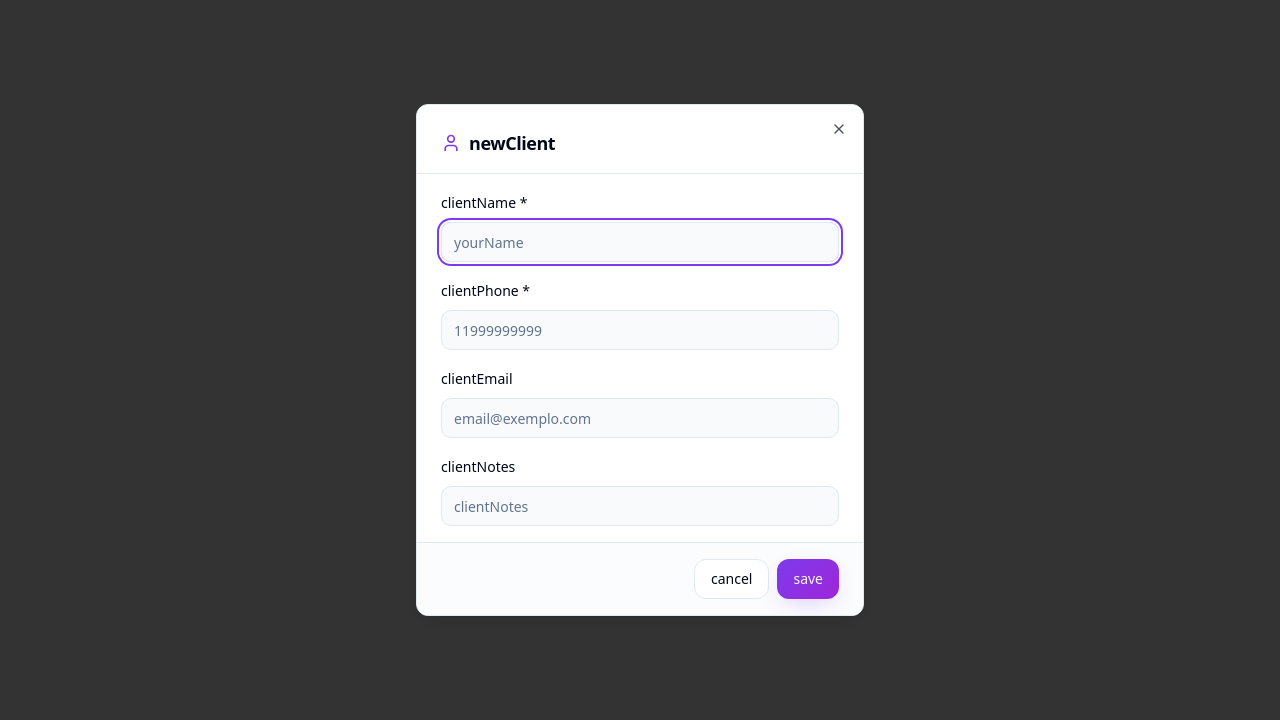
Test case: ClientFormDialog › clears field error when user types in that field
Click the button "save" at x=808, y=579, box [777, 559, 839, 599]
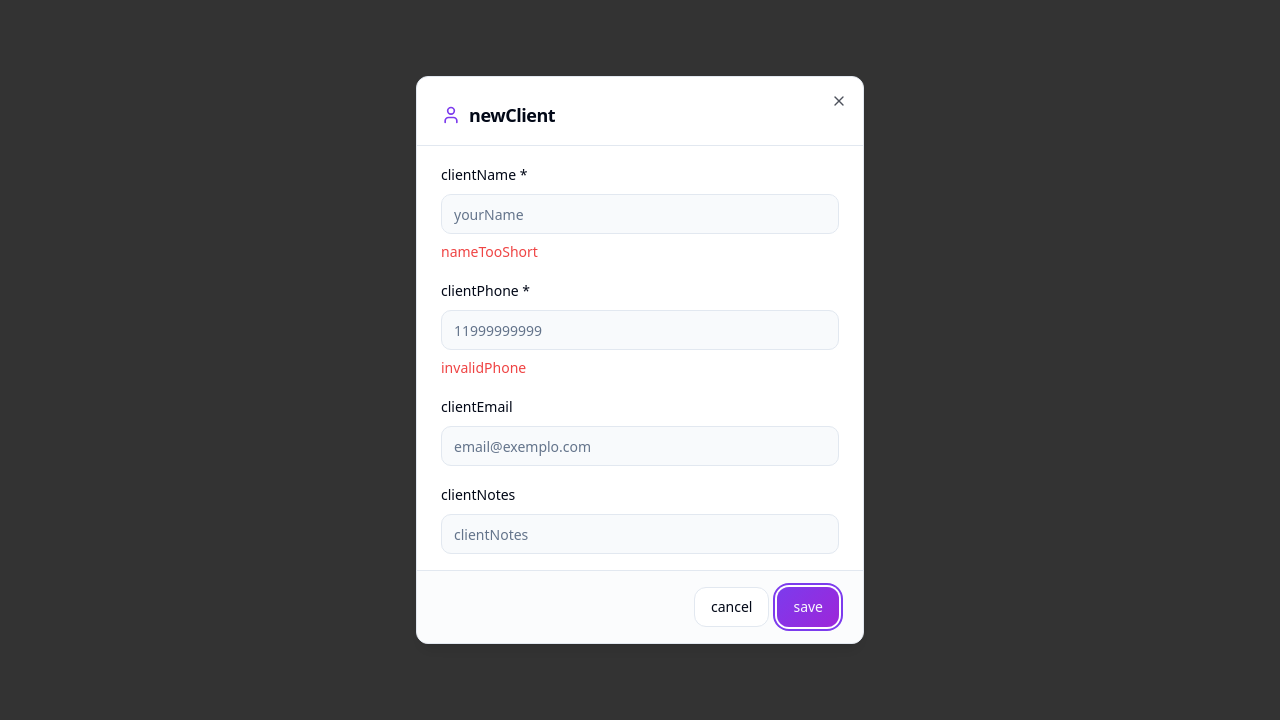
Expected: the text "nameTooShort" is shown, [441, 242, 538, 261]
Type "Ana" into the field labelled "clientName *" at x=640, y=214, box [441, 194, 839, 234]
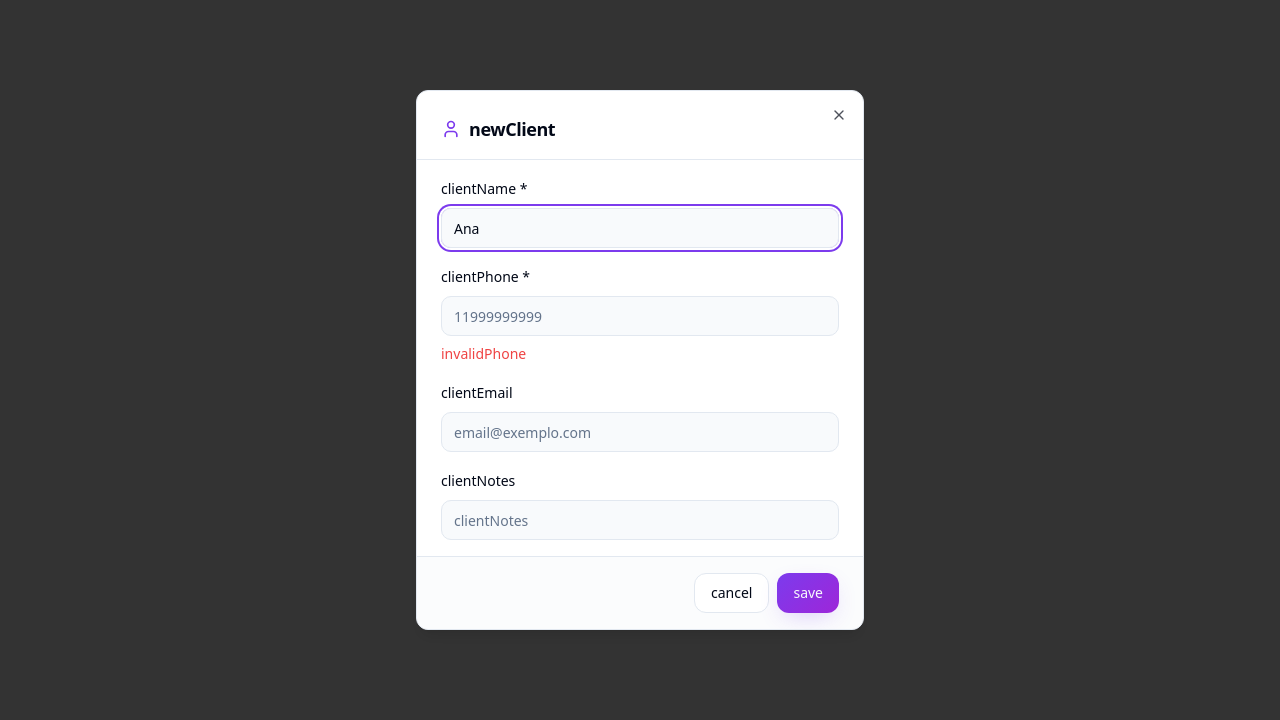
Expected: the text "nameTooShort" is gone
